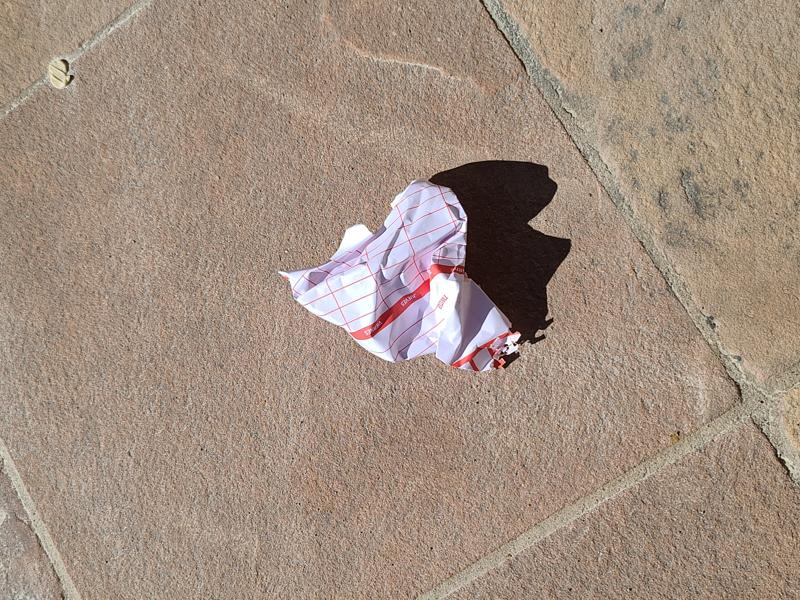papel: (279, 180, 521, 373)
